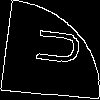U: (25, 24, 82, 68)
